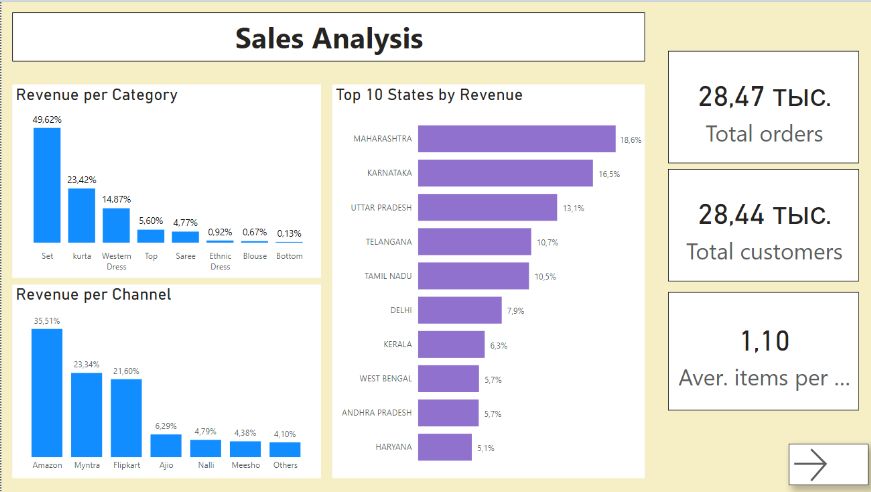

The dashboard page shown, as its layout file describes it:
{"tool":"powerbi","page":{"name":"Страница 2","canvas":[1280,720],"ordinal":1},"visuals":[{"type":"textbox","box":[16.5,16.5,927.7,72.2],"z":0},{"type":"actionButton","box":[1154.5,648.9,116.6,60.8],"z":1000},{"type":"clusteredColumnChart","title":"Revenue per Category","fields":{"Category":["SwiftCart_Store.Category"],"Y":["Sum(SwiftCart_Store.Amount)"]},"box":[16.5,121.7,452.4,283.9],"z":2000},{"type":"clusteredColumnChart","title":"Revenue per Channel","fields":{"Category":["SwiftCart_Store.Channel "],"Y":["Sum(SwiftCart_Store.Amount)"]},"box":[16.5,415.7,452.4,283.9],"z":3000},{"type":"clusteredBarChart","title":"Top 10 States by Revenue","fields":{"Category":["SwiftCart_Store.Ship State"],"Y":["Sum(SwiftCart_Store.Amount)"]},"box":[485.4,121.7,458.8,577.9],"z":4000},{"type":"card","fields":{"Values":["SwiftCart_Store.Мера 2"]},"box":[978,72.5,280.1,164.6],"z":5000},{"type":"card","fields":{"Values":["SwiftCart_Store.Unic_cust"]},"box":[978,245.7,280.1,164.6],"z":6000},{"type":"card","fields":{"Values":["SwiftCart_Store.Мера 2"]},"box":[978,426.3,280.1,173.2],"z":7000}]}

Visuals, with their boxes in screenshot pixels (x1, y1, x2, y2), scaled from the page's 1280x720 canvas onto the 871x492 screenshot:
textbox: [11,11,642,61]
actionButton: [786,443,865,485]
"Revenue per Category" clusteredColumnChart: [11,83,319,277]
"Revenue per Channel" clusteredColumnChart: [11,284,319,478]
"Top 10 States by Revenue" clusteredBarChart: [330,83,642,478]
card - SwiftCart_Store.Мера 2: [665,50,856,162]
card - SwiftCart_Store.Unic_cust: [665,168,856,280]
card - SwiftCart_Store.Мера 2: [665,291,856,410]
